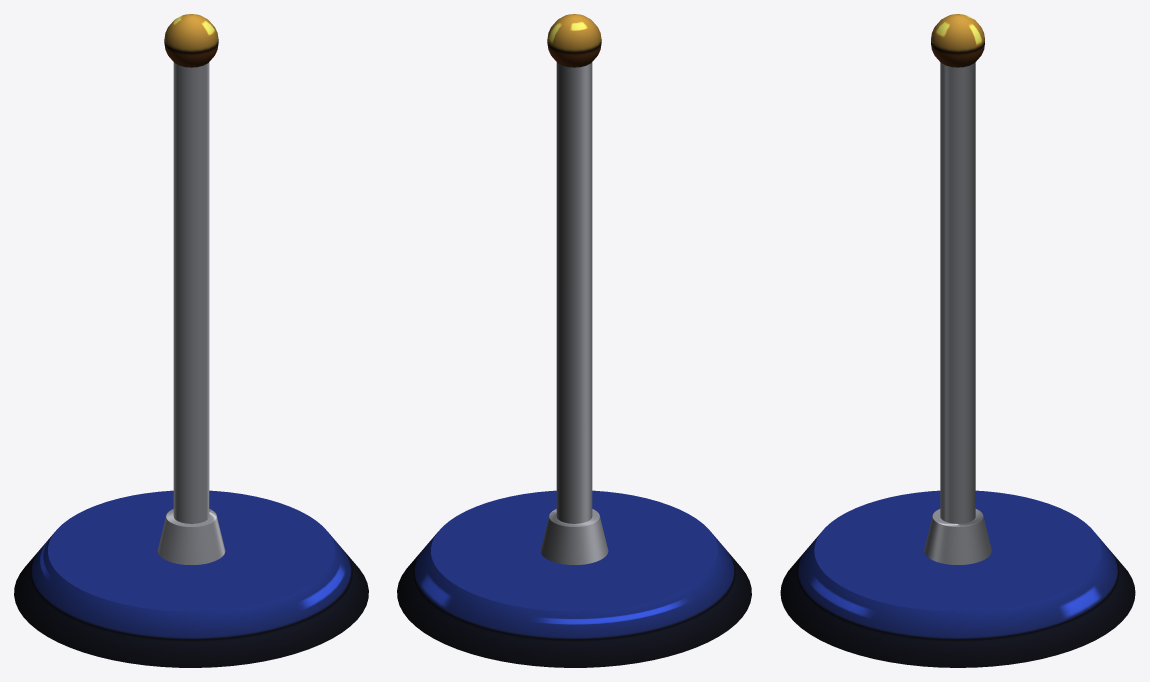
File: sign_stand.glb
The picture shows the model from 3 angles, left to right: view 1: azimuth 30°, elevation 25°; view 2: azimuth 150°, elevation 25°; view 3: azimuth 270°, elevation 25°; orthographic projection.
Visible parts, largest first — view 1: sign_stand; view 2: sign_stand; view 3: sign_stand.
Part boxes in pixels (x1,y1,x2,y2): sign_stand: (14,14,368,667); sign_stand: (397,14,751,667); sign_stand: (780,14,1135,667).
Bounding box in the file's own units: 0.084 × 0.1505 × 0.084.
4 materials, 4 textured.
